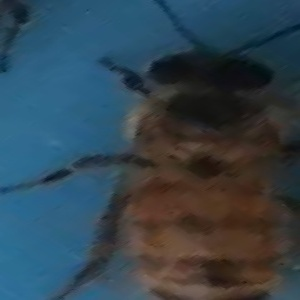bee: (55, 19, 300, 300)
